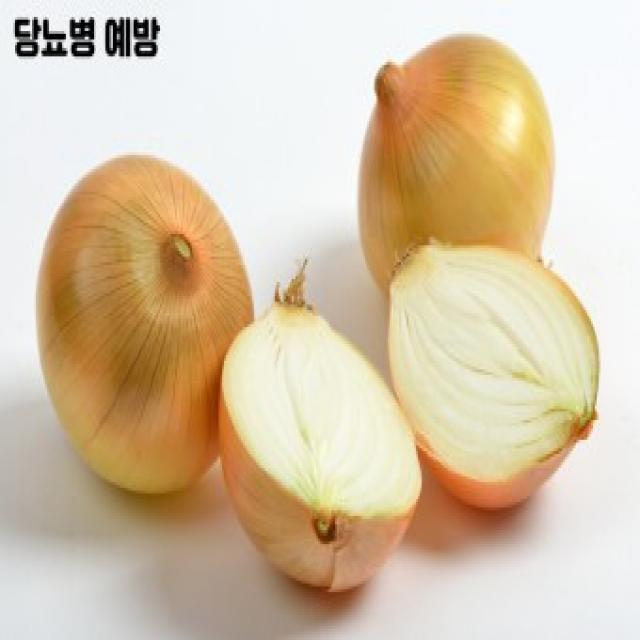onion: (31, 143, 238, 493), (222, 281, 422, 591), (386, 234, 592, 526), (352, 25, 562, 284)
